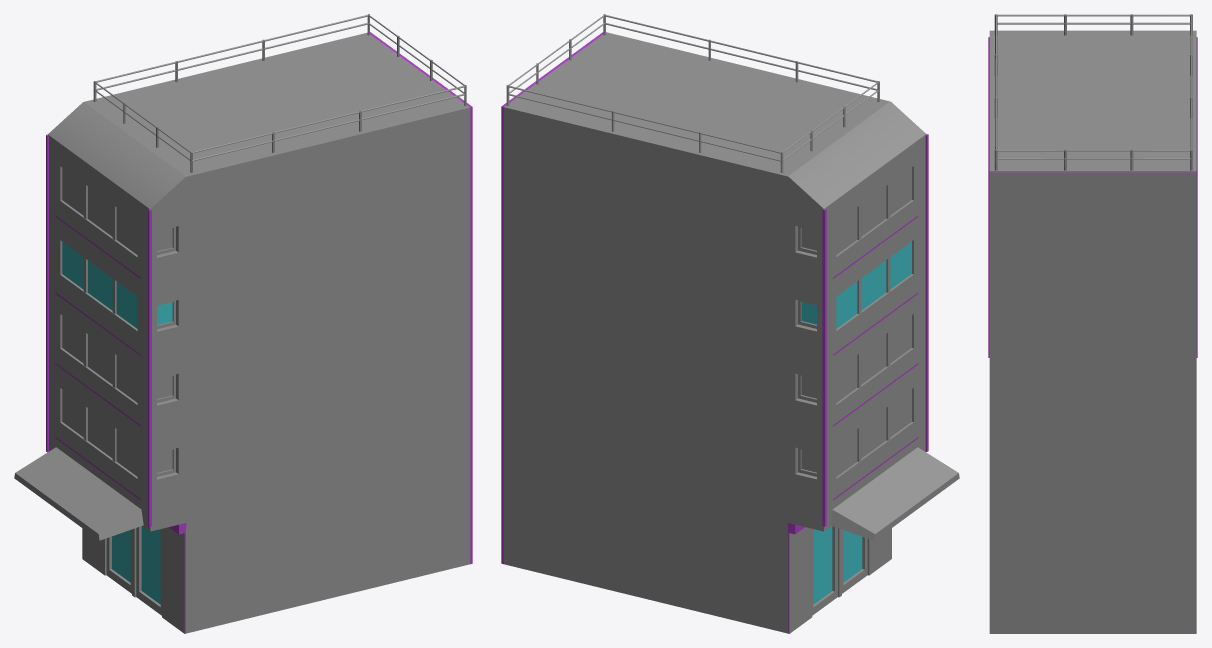
Rendered from buildings_S_05_VAR3 1.fbx.
3 renders of one model, left to right at view 1: azimuth 30°, elevation 25°; view 2: azimuth 150°, elevation 25°; view 3: azimuth 270°, elevation 25°, orthographic.
Parts seen in each view (by area): view 1: buildings_S_05_VAR3; view 2: buildings_S_05_VAR3; view 3: buildings_S_05_VAR3.
Part boxes in pixels (<box>): buildings_S_05_VAR3: <box>14,14,472,633</box>; buildings_S_05_VAR3: <box>501,14,959,633</box>; buildings_S_05_VAR3: <box>988,14,1197,633</box>.
Size of the model in its own units: 12.09 by 15.12 by 5.95.
